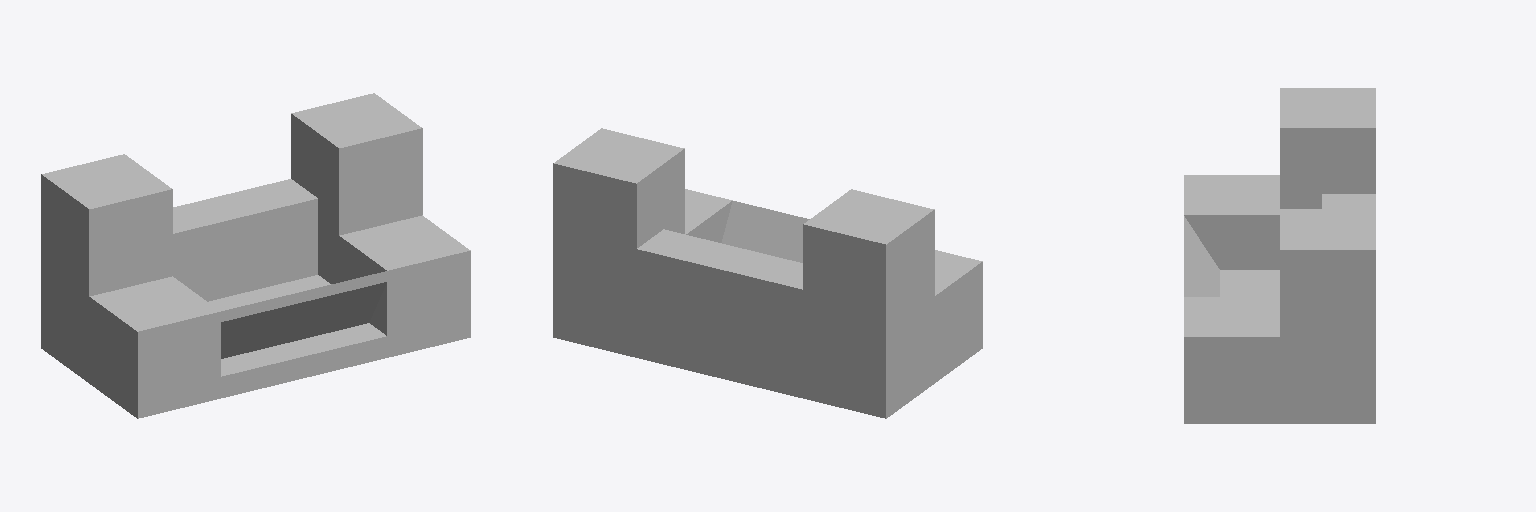
The model's file is chemical_bath.obj.
The picture shows the model from 3 angles: view 1: azimuth 30°, elevation 25°; view 2: azimuth 150°, elevation 25°; view 3: azimuth 270°, elevation 25°; orthographic projection.
Visible parts, largest first — view 1: cube; view 2: cube; view 3: cube.
Boxes of the visible parts, x1=… form: cube: x1=41, y1=93, x2=470, y2=418; cube: x1=553, y1=128, x2=982, y2=418; cube: x1=1184, y1=88, x2=1375, y2=423.
Bounding box in the file's own units: 4 × 2 × 2.